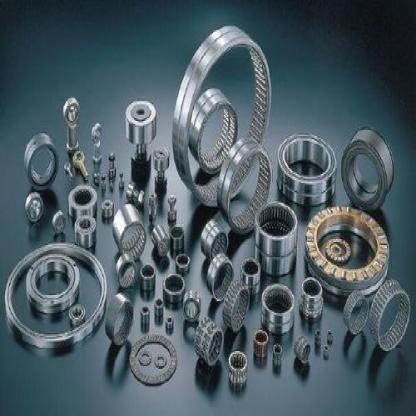FOD: (218, 140, 273, 238), (339, 122, 396, 215), (274, 129, 338, 207), (23, 250, 81, 314), (22, 131, 58, 193), (124, 96, 158, 148), (206, 253, 236, 307), (72, 212, 98, 250), (227, 348, 250, 390), (22, 190, 45, 224), (50, 206, 66, 238)
